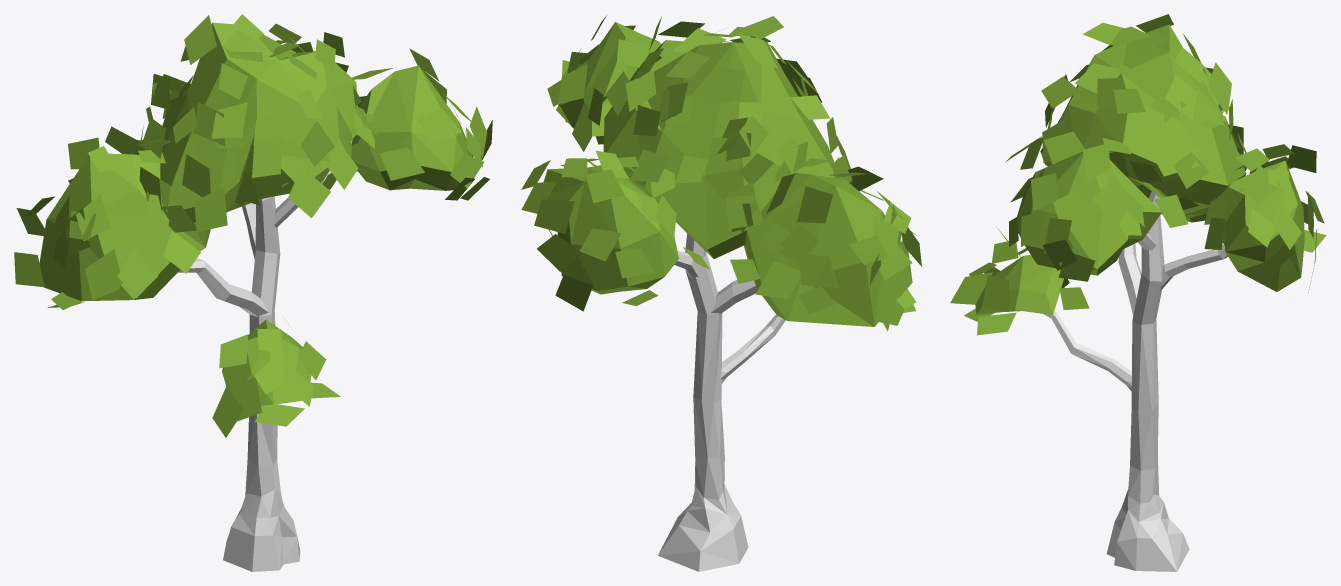
File: SM_Tree_Oak_Young_A.fbx
3 views of the same model, side by side, from view 1: azimuth 30°, elevation 25°; view 2: azimuth 150°, elevation 25°; view 3: azimuth 270°, elevation 25° (orthographic). The views are drawn at different scales.
Parts seen in each view (by area): view 1: tree-oak-young-a; view 2: tree-oak-young-a; view 3: tree-oak-young-a.
Part boxes in pixels (<box>): tree-oak-young-a: <box>14,14,492,571</box>; tree-oak-young-a: <box>521,15,921,571</box>; tree-oak-young-a: <box>950,14,1326,571</box>.
Size of the model in its own units: 4.15 by 5.34 by 3.49.
